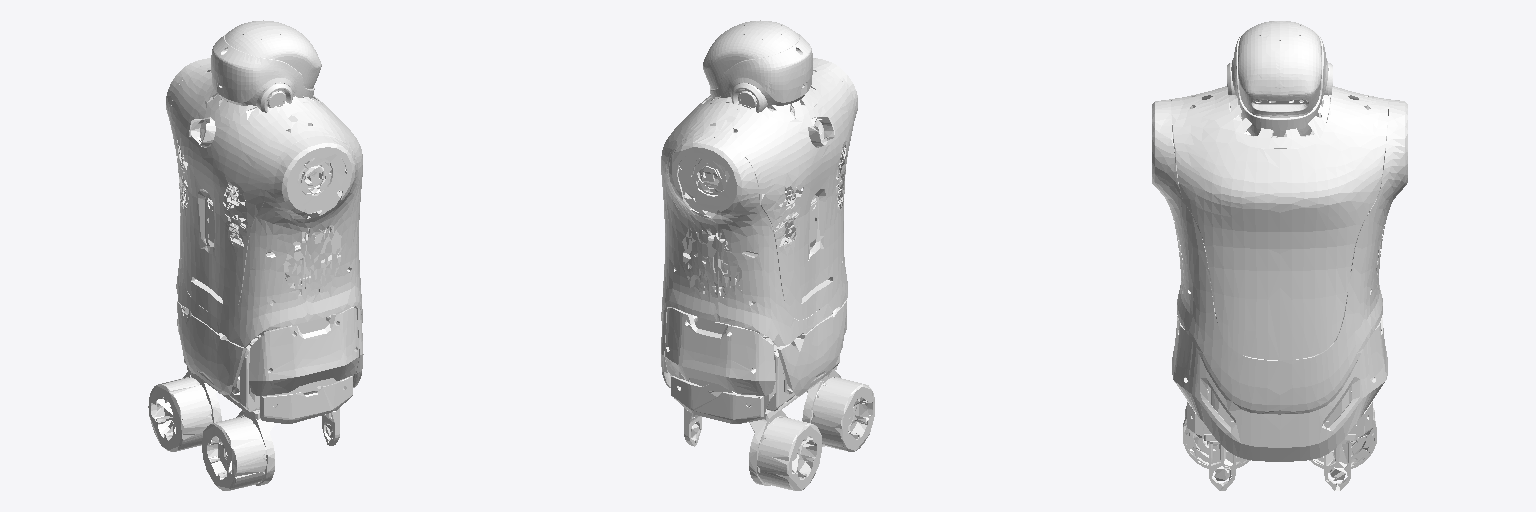
URDF robot description (biped_s4):
<?xml version="1.0" encoding="utf-8" ?>
<!-- This URDF was automatically created by SolidWorks to URDF Exporter! Originally created by Stephen Brawner (brawner@gmail.com) 
     Commit Version: 1.6.0-4-g7f85cfe  Build Version: 1.6.7995.38578
     For more information, please see http://wiki.ros.org/sw_urdf_exporter -->
<robot name="biped_s4">
    <link name="torso">
        <inertial>
            <origin xyz="-0.0131642143292668 -0.00101855461920045 0.120968817067497" rpy="0 0 0" />
            <mass value="17.7538790248349" />
            <inertia ixx="0.109513413578877" ixy="-3.84263402967609E-06" ixz="0.002072229236261" iyy="0.0639718644540955" iyz="5.94596039793819E-06" izz="0.0796086142464887" />
        </inertial>
        <visual>
            <origin xyz="0 0 0" rpy="0 0 0" />
            <geometry>
                <mesh filename="package://biped_s4/meshes/torso.STL" />
            </geometry>
            <material name="">
                <color rgba="1 1 1 1" />
            </material>
        </visual>
        <collision>
            <origin xyz="0 0 0" rpy="0 0 0" />
            <geometry>
                <mesh filename="package://biped_s4/meshes/torso.STL" />
            </geometry>
        </collision>
    </link>

    <link name="torso_camera">
        <visual>
            <origin xyz="0 0 0" rpy="0 0 0" />
            <geometry>
                <sphere radius="0.001"/>
                <!-- <box size="0.1 0.051 0.051"/> -->
            </geometry>
            <material name="">
                <color rgba="1 1 1 1" />
            </material>
        </visual>
    </link>
    <joint name="torso_camera" type="fixed">
        <origin xyz="0.11416 0.0175 0.28459" rpy="0 0.71522222 0" />
        <parent link="torso" />
        <child link="torso_camera" />
    </joint>


    <link name="head_yaw">
        <inertial>
            <origin xyz="-0.000116065796709811 0.00341283230689319 -0.00762227943283844" rpy="0 0 0" />
            <mass value="0.0876587232040551" />
            <inertia ixx="5.29184226374934E-05" ixy="-5.55749298909931E-08" ixz="2.93674313773846E-07" iyy="7.69981959753033E-05" iyz="-9.22993448844536E-06" izz="5.31017800814282E-05" />
        </inertial>
        <visual>
            <origin xyz="0 0 0" rpy="0 0 0" />
            <geometry>
                <mesh filename="package://biped_s4/meshes/head_yaw.STL" />
            </geometry>
            <material name="">
                <color rgba="1 1 1 1" />
            </material>
        </visual>
        <collision>
            <origin xyz="0 0 0" rpy="0 0 0" />
            <geometry>
                <mesh filename="package://biped_s4/meshes/head_yaw.STL" />
            </geometry>
        </collision>
    </link>
    <joint name="head_yaw" type="continuous">
        <origin xyz="-0.0175475823124929 0 0.499400000000373" rpy="0 0 0" />
        <parent link="torso" />
        <child link="head_yaw" />
        <axis xyz="0 0 -1" />
    </joint>
    <link name="head_pitch">
        <inertial>
            <origin xyz="0.0108076765997382 -0.00100494759438114 0.0523165975702757" rpy="0 0 0" />
            <mass value="0.348142076778321" />
            <inertia ixx="0.000904070873567589" ixy="1.57558780381555E-06" ixz="0.000295083531658369" iyy="0.000957585537827452" iyz="-9.61289176090918E-06" izz="0.00114051835139601" />
        </inertial>
        <visual>
            <origin xyz="0 0 0" rpy="0 0 0" />
            <geometry>
                <mesh filename="package://biped_s4/meshes/head_pitch.STL" />
            </geometry>
            <material name="">
                <color rgba="1 1 1 1" />
            </material>
        </visual>
        <collision>
            <origin xyz="0 0 0" rpy="0 0 0" />
            <geometry>
                <mesh filename="package://biped_s4/meshes/head_pitch.STL" />
            </geometry>
        </collision>
    </link>
    <joint name="head_pitch" type="continuous">
        <origin xyz="0 0 0" rpy="0 0 0" />
        <parent link="head_yaw" />
        <child link="head_pitch" />
        <axis xyz="0 1 0" />
    </joint>
    <link name="head_camera">
        <visual>
            <origin xyz="0 0 0" rpy="0 0 0" />
            <geometry>
                <sphere radius="0.001"/>
                <!-- <box size="0.1 0.051 0.051"/> -->
            </geometry>
            <material name="">
                <color rgba="1 1 1 1" />
            </material>
        </visual>
    </link>
    <joint name="head_camera" type="fixed">
        <origin xyz="0.082 0.0175 0.05449" rpy="0 0.6105555 0" />
        <parent link="head_pitch" />
        <child link="head_camera" />
    </joint>


    <transmission name="trans_head_yaw">
        <type>transmission_interface/SimpleTransmission</type>
        <joint name="head_yaw">
            <hardwareInterface>hardware_interface/EffortJointInterface</hardwareInterface>
        </joint>
        <actuator name="head_yaw_motor">
            <hardwareInterface>hardware_interface/EffortJointInterface</hardwareInterface>
            <mechanicalReduction>1</mechanicalReduction>
        </actuator>
    </transmission>
    <transmission name="trans_head_pitch">
        <type>transmission_interface/SimpleTransmission</type>
        <joint name="head_pitch">
            <hardwareInterface>hardware_interface/EffortJointInterface</hardwareInterface>
        </joint>
        <actuator name="head_pitch_motor">
            <hardwareInterface>hardware_interface/EffortJointInterface</hardwareInterface>
            <mechanicalReduction>1</mechanicalReduction>
        </actuator>
    </transmission>
    <gazebo>
        <plugin name="gazebo_ros_control">
            <robotNamespace>/</robotNamespace>
        </plugin>
    </gazebo>
</robot>

--- What the picture shows (computed from the rendered views, not written in the file) ---
The picture shows the robot from 3 angles, left to right: view 1: azimuth 30°, elevation 25°; view 2: azimuth 150°, elevation 25°; view 3: azimuth 270°, elevation 25°; orthographic projection.
Robot: biped_s4 — 5 links, 4 joints (2 continuous, 2 fixed); root link torso; default pose: all joints at 0.
Visible links, largest first — view 1: torso, head_pitch; view 2: torso, head_pitch; view 3: torso, head_pitch.
Boxes of the visible links, x1,y1,x2,y2 form: torso: [148, 58, 363, 490]; head_pitch: [211, 20, 321, 112]; torso: [661, 58, 874, 490]; head_pitch: [703, 20, 812, 112]; torso: [1152, 86, 1407, 490]; head_pitch: [1227, 21, 1332, 136].
Bounding box of the posed robot: 0.2827 × 0.387 × 0.7652 m (x, y, z).
Meshes: 3 distinct files referenced, 3 mesh visuals loaded (3 binary STL).
